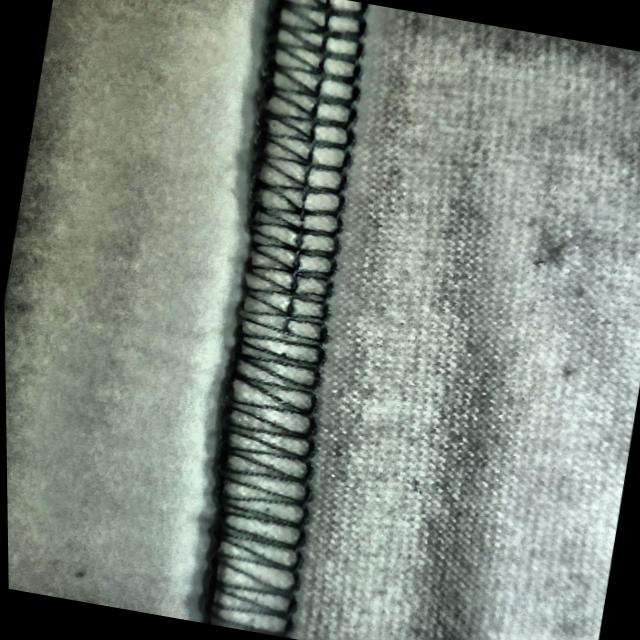Stitch: (173, 68, 384, 592)
